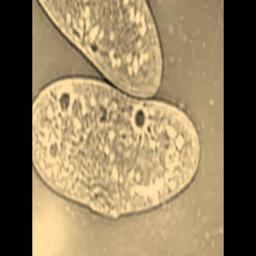Paramecium: (28, 75, 201, 219), (44, 2, 164, 97)
